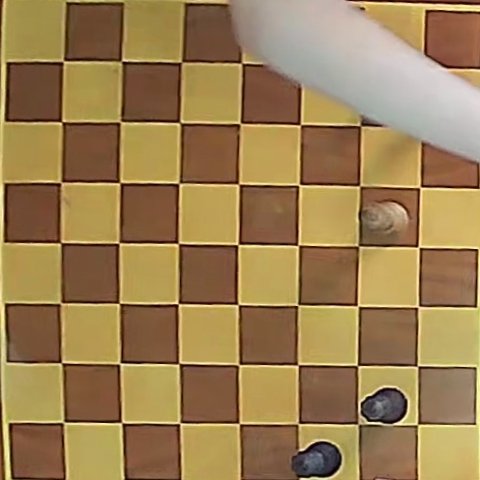black-queen: (290, 440, 342, 479), (361, 387, 407, 424)
white-king: (362, 200, 409, 236)
